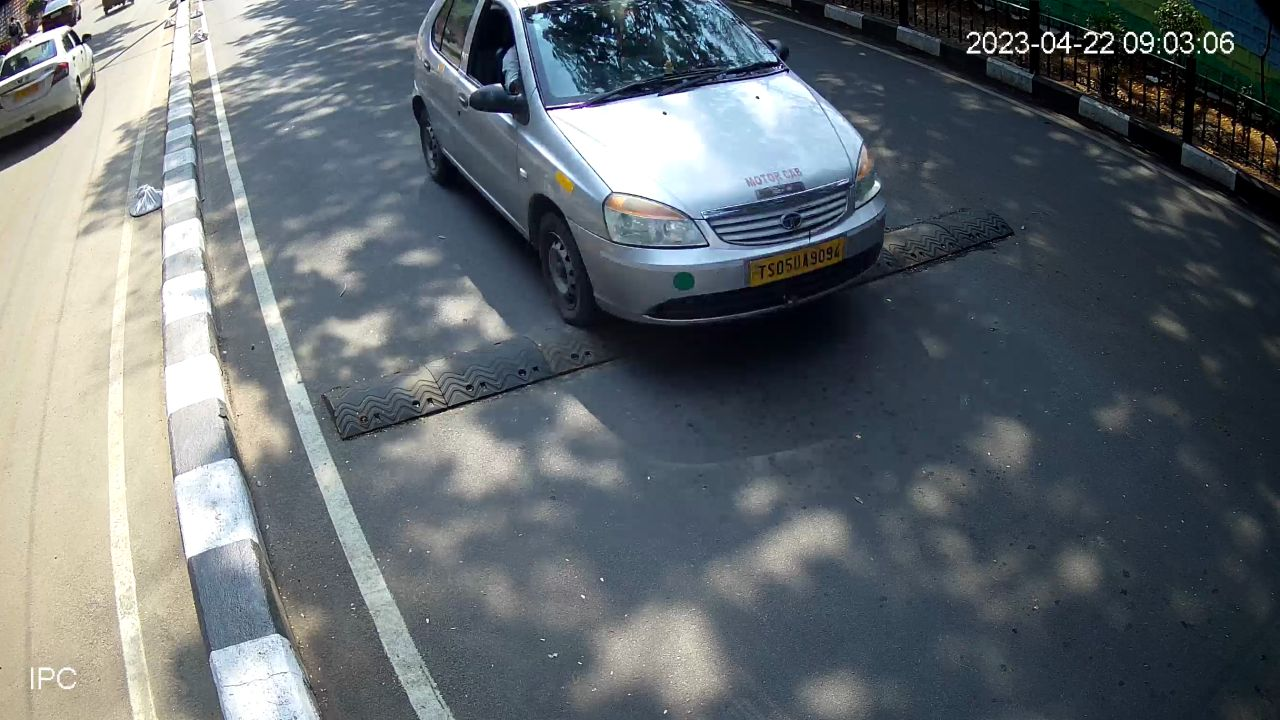license_plate: (738, 227, 852, 293)
